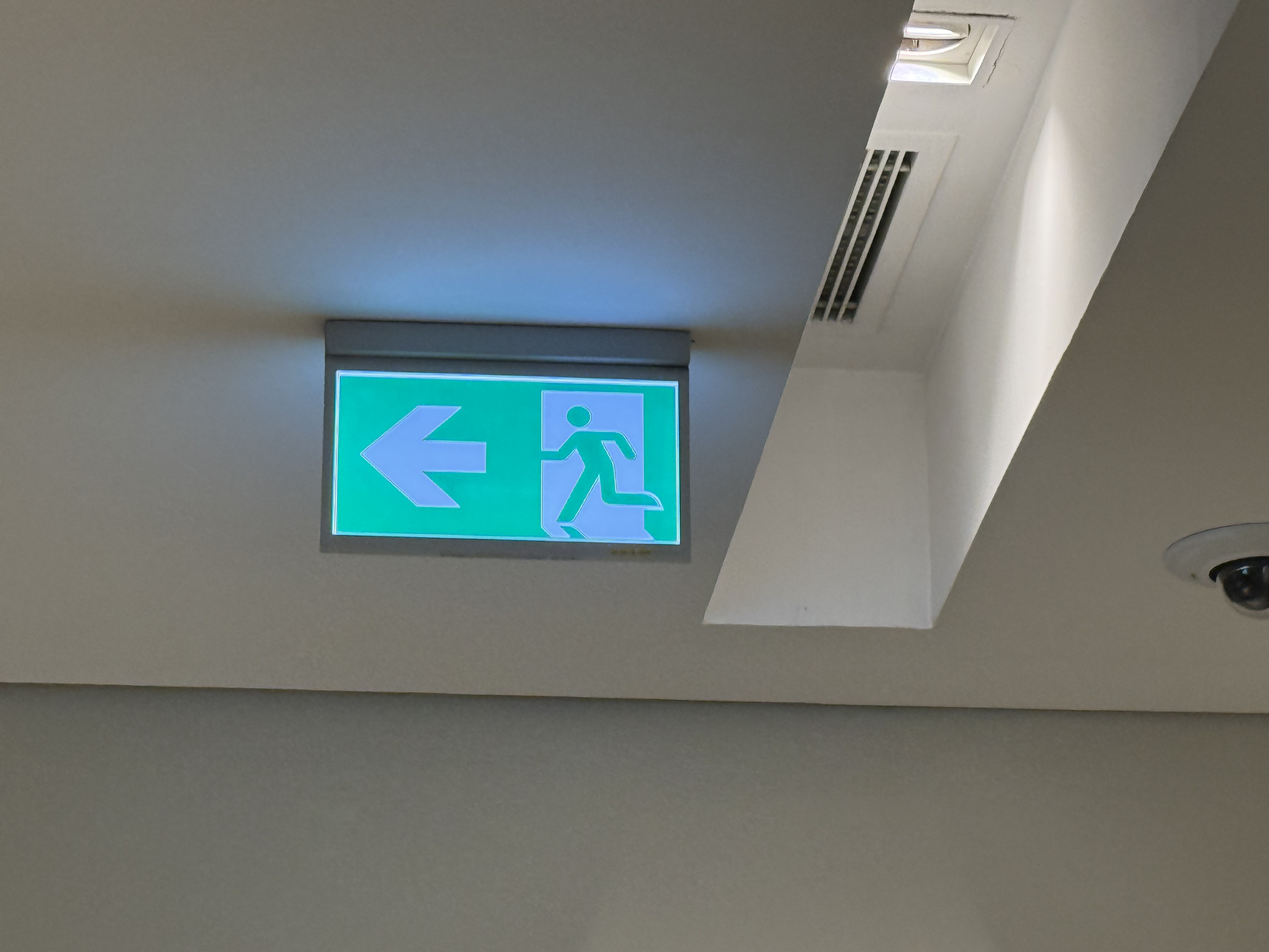emergency_exit: (321, 319, 693, 554), (328, 365, 684, 549)
